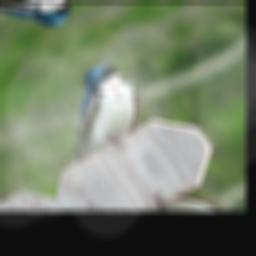Swallow: (29, 55, 170, 174)
